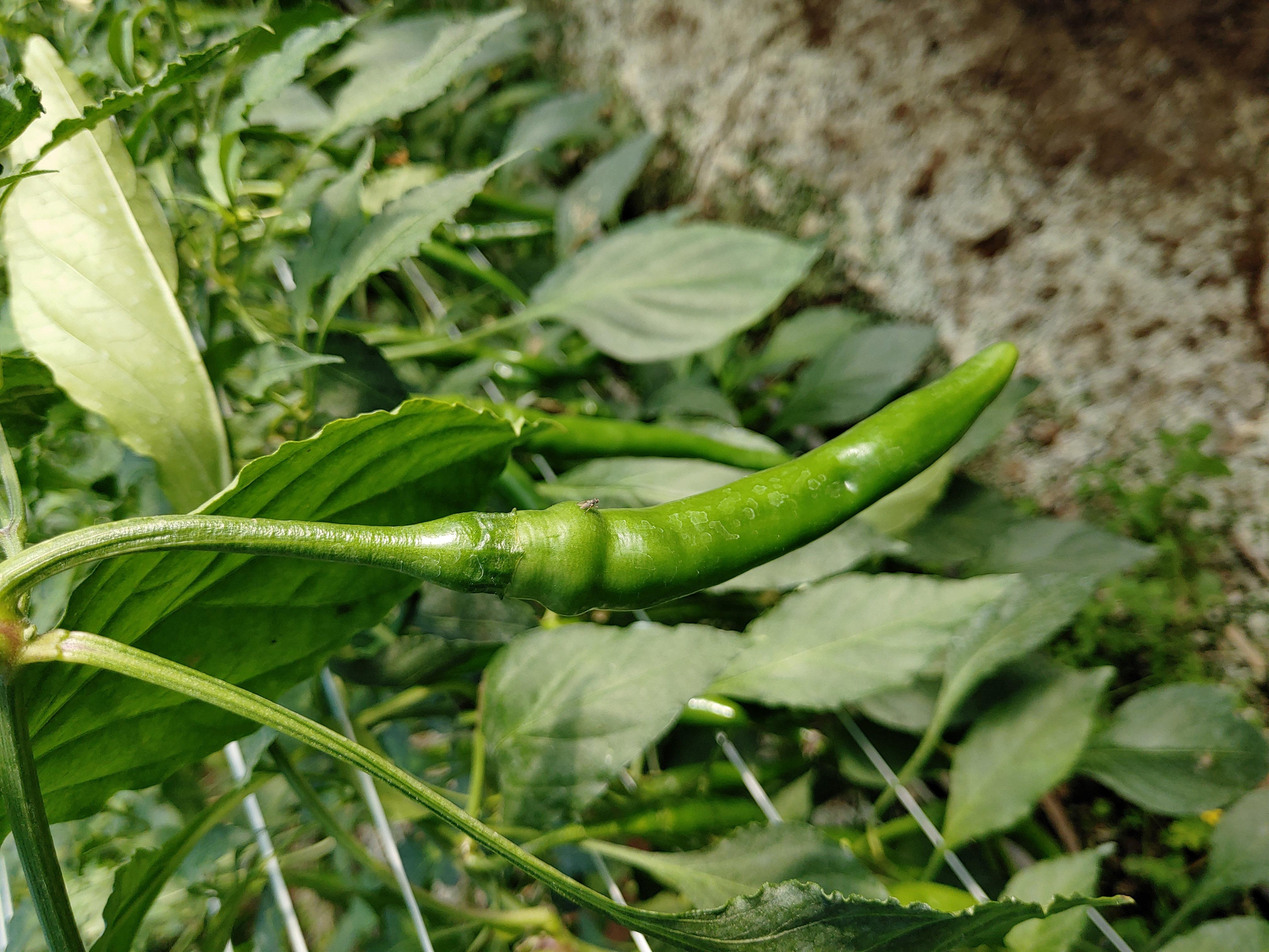Buah Cabai Sehat: (399, 337, 1024, 622)
